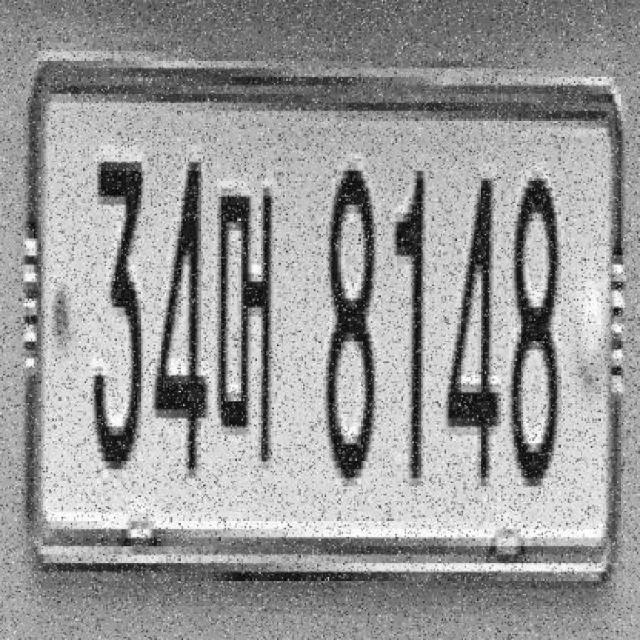licenseplate: (25, 46, 626, 569)
